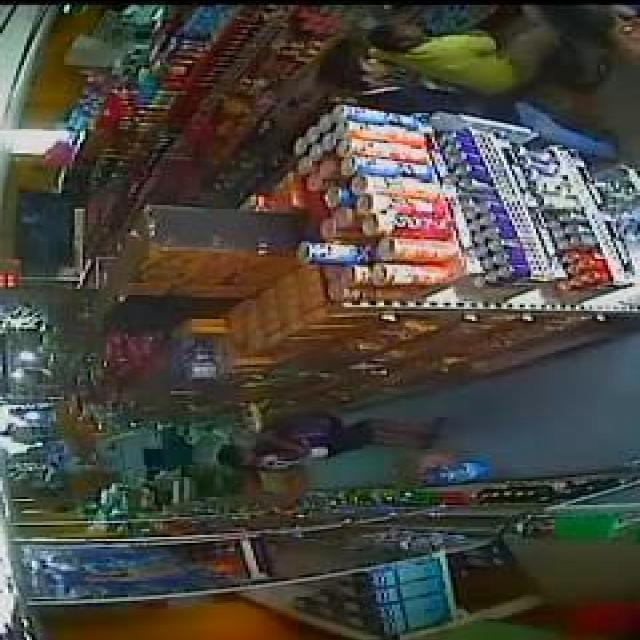Shoplifting: (169, 374, 505, 532)
